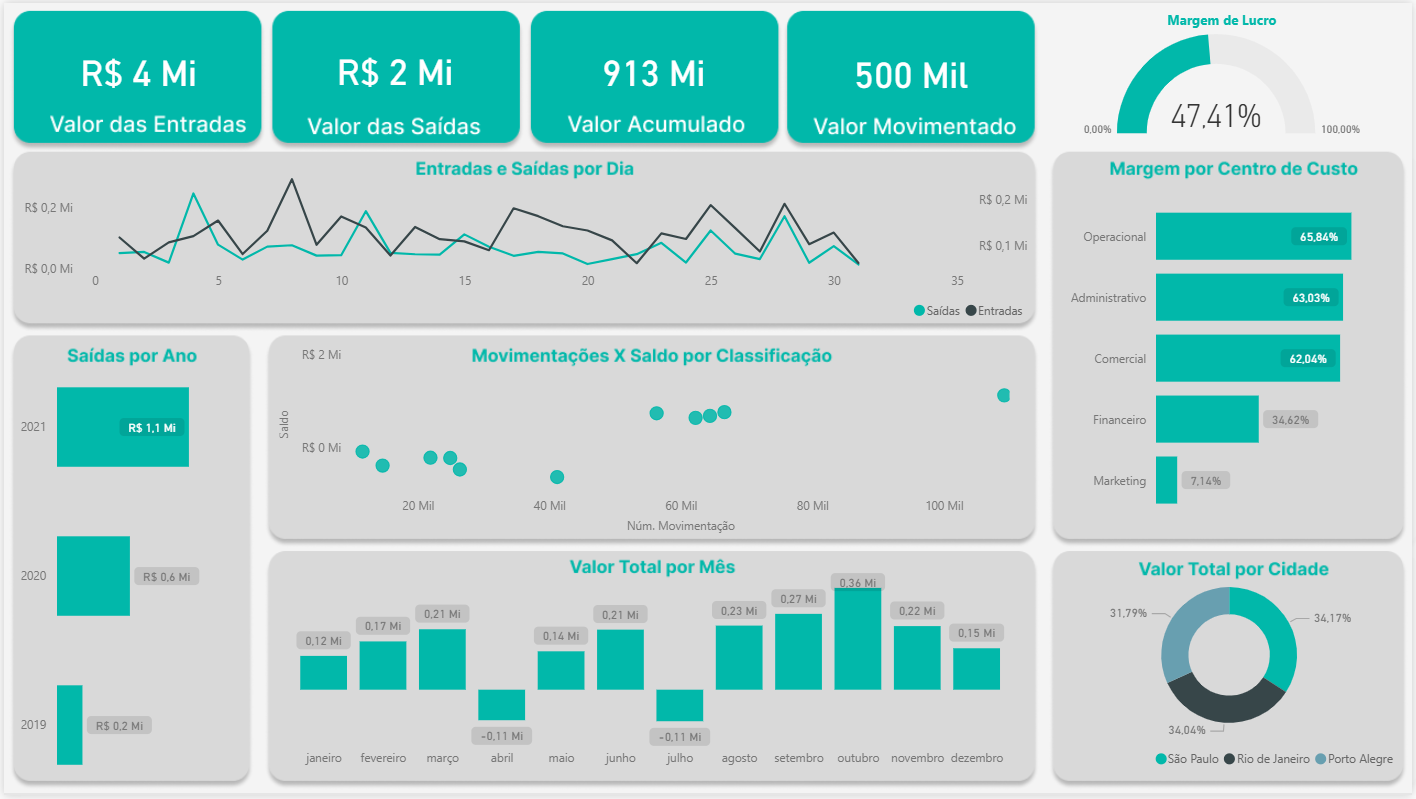

Layout of this report page (visuals, bound fields, positions):
{"tool":"powerbi","page":{"name":"Fluxo de Caixa","canvas":[1280,720],"ordinal":0},"visuals":[{"type":"card","fields":{"Values":["Movimentações.Entradas"]},"box":[13.3,15,217.5,92.5],"z":0},{"type":"card","fields":{"Values":["Movimentações.Saídas"]},"box":[242.5,11.7,225.8,97.5],"z":1000},{"type":"gauge","fields":{"Y":["Movimentações.Margem de Lucro"]},"box":[935.1,7,343.3,121.2],"z":4000},{"type":"barChart","fields":{"Y":["Movimentações.Margem de Lucro"],"Category":["Movimentações.Centro de Custos"]},"box":[957.5,155.8,310.8,328.3],"z":5000},{"type":"lineChart","fields":{"Y":["Movimentações.Saídas"],"Y2":["Movimentações.Entradas"],"Category":["Calendario.Datas.Variation.Hierarquia de datas.Dia"]},"box":[13.3,144.2,921.7,152.5],"z":6000},{"type":"barChart","fields":{"Y":["Movimentações.Saldo"],"Category":["Calendario.Mes/Ano.Variation.Hierarquia de datas.Ano"]},"box":[8.3,336.7,214.2,369.2],"z":7000},{"type":"columnChart","fields":{"Y":["Sum(Movimentações.Valor)"],"Category":["Calendario.Nome do Mes"]},"box":[242.5,507.5,690,197.5],"z":8000},{"type":"card","fields":{"Values":["Sum(Movimentações.Acumulado)"]},"box":[476.7,15,228.3,92.5],"z":9000},{"type":"card","fields":{"Values":["Sum(Movimentações.Núm. Movimentação)"]},"box":[714.2,14.2,219.2,97.5],"z":10000},{"type":"donutChart","fields":{"Category":["Movimentações.Local"],"Y":["Sum(Movimentações.Valor)"]},"box":[955,507.5,316.7,197.5],"z":11000},{"type":"scatterChart","fields":{"Category":["Movimentações.Classificação"],"Y":["Movimentações.Saldo"],"X":["Sum(Movimentações.Núm. Movimentação)"]},"box":[245,305.8,691.7,181.7],"z":12000}]}

Visuals, with their boxes in screenshot pixels (x1, y1, x2, y2), scaled from the page's 1280x720 canvas onto the 1416x799 screenshot:
card - Movimentações.Entradas: bbox=(15, 17, 255, 119)
card - Movimentações.Saídas: bbox=(268, 13, 518, 121)
gauge - Movimentações.Margem de Lucro: bbox=(1034, 8, 1414, 142)
barChart - Movimentações.Margem de Lucro x Movimentações.Centro de Custos: bbox=(1059, 173, 1403, 537)
lineChart - Movimentações.Saídas x Movimentações.Entradas: bbox=(15, 160, 1034, 329)
barChart - Movimentações.Saldo x Calendario.Mes/Ano.Variation.Hierarquia de datas.Ano: bbox=(9, 374, 246, 783)
columnChart - Sum(Movimentações.Valor) x Calendario.Nome do Mes: bbox=(268, 563, 1032, 782)
card - Sum(Movimentações.Acumulado): bbox=(527, 17, 780, 119)
card - Sum(Movimentações.Núm. Movimentação): bbox=(790, 16, 1033, 124)
donutChart - Movimentações.Local x Sum(Movimentações.Valor): bbox=(1056, 563, 1407, 782)
scatterChart - Movimentações.Classificação x Movimentações.Saldo: bbox=(271, 339, 1036, 541)
